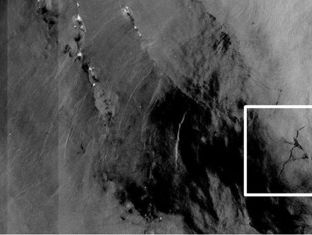anomaly: (140, 97, 295, 235)
